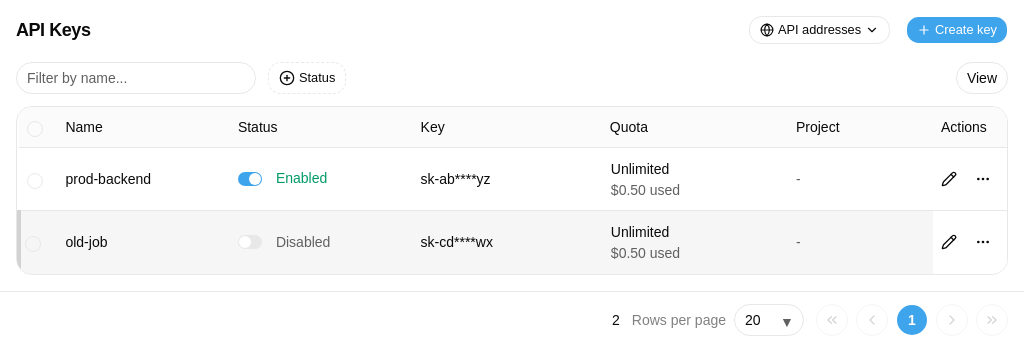
KeysPage filters › narrows the loaded page by name
The width and height of the screenshot is (1024, 353).
Expected: the text "old-job" is shown, [65, 234, 107, 250]
Type "old" into the field with placeholder "Filter by name...".
click(136, 78); type("old")  # box [16, 62, 256, 94]
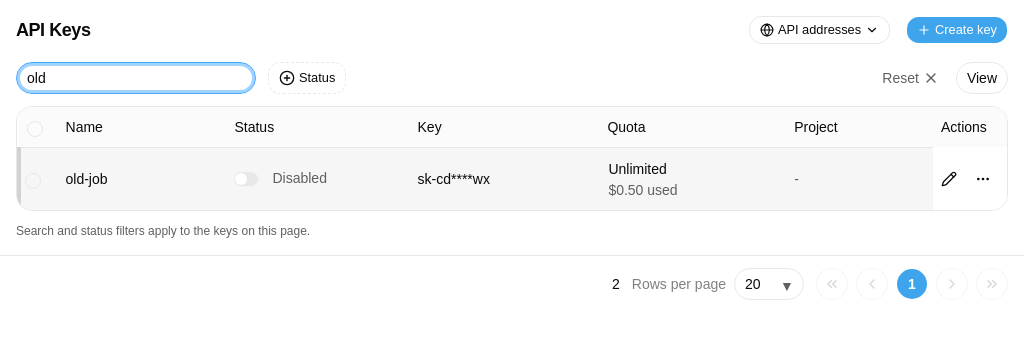
Expected: the text "old-job" is shown, [66, 171, 108, 187]
Now the text "prod-backend" is gone
Now the text "Search and status filters apply to the keys on this page." is shown, box [16, 224, 310, 238]
